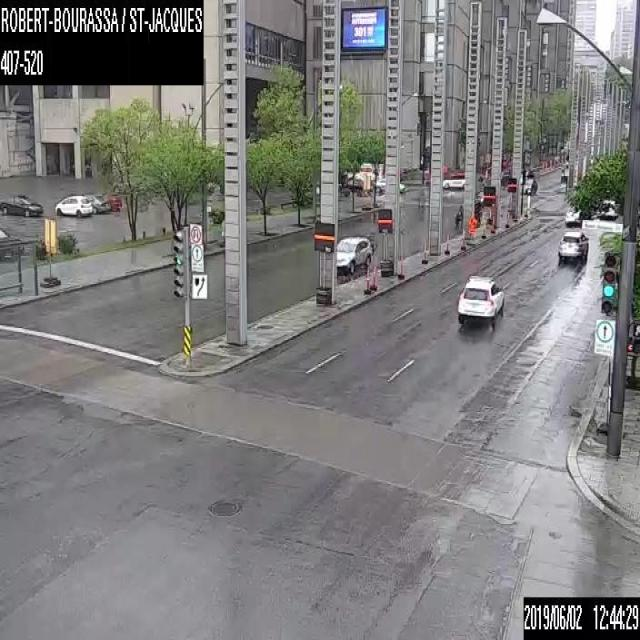construction: (466, 214, 478, 234), (366, 271, 376, 288), (400, 259, 404, 273), (490, 218, 494, 230), (422, 244, 425, 259), (446, 237, 449, 251), (515, 205, 518, 218), (482, 224, 485, 236), (505, 212, 508, 224), (461, 235, 464, 245)
vehicle: (456, 272, 504, 325), (335, 232, 373, 273), (556, 229, 589, 263), (0, 193, 43, 215), (0, 224, 23, 257), (53, 196, 92, 214), (454, 200, 480, 226), (592, 198, 618, 218), (84, 192, 110, 211), (375, 176, 404, 192), (442, 171, 464, 188), (107, 192, 122, 212), (523, 172, 536, 193), (564, 208, 580, 225), (559, 166, 567, 182)
